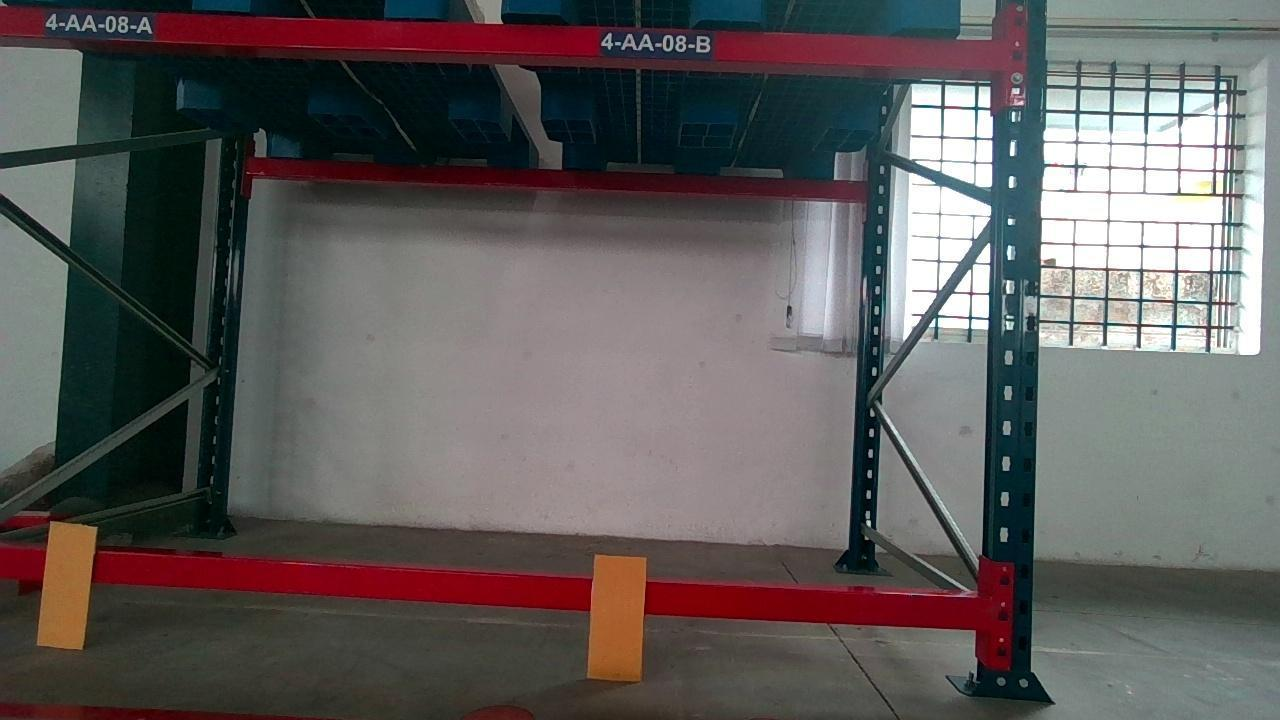h_rack: (0, 550, 984, 628), (4, 5, 1011, 72)
orange_strip: (588, 555, 646, 680), (36, 523, 94, 647)
small_pallet: (498, 0, 983, 27)
